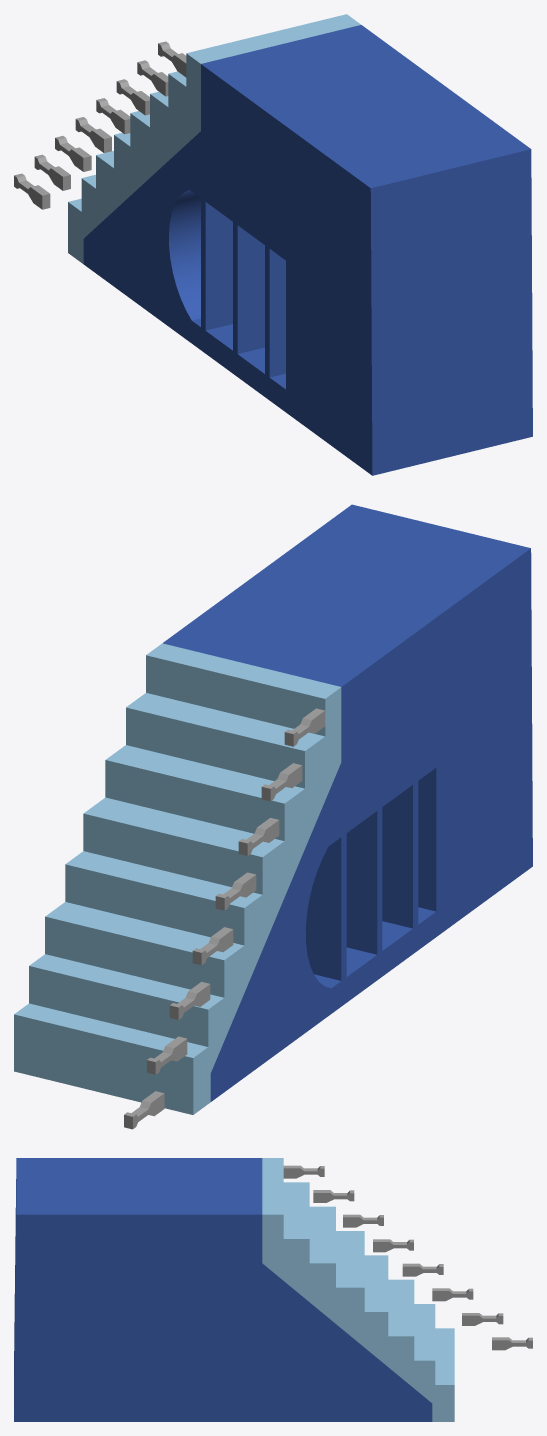
Rendered from Part Studio 18.dae.
3 renders of one model, top to bottom at view 1: azimuth 30°, elevation 25°; view 2: azimuth 150°, elevation 25°; view 3: azimuth 270°, elevation 25°, orthographic. The views are drawn at different scales.
Parts seen in each view (by area): view 1: 683cea19acba11596aeaaa51 (×9); view 2: 683cea19acba11596aeaaa51 (×10); view 3: 683cea19acba11596aeaaa51 (×10).
Boxes of the visible parts, bbox=[...] form: 683cea19acba11596aeaaa51 (×9): bbox=[14, 14, 532, 475]; 683cea19acba11596aeaaa51 (×10): bbox=[14, 504, 532, 1129]; 683cea19acba11596aeaaa51 (×10): bbox=[14, 1158, 532, 1421].
Size of the model in its own units: 0.0254 by 0.0982 by 0.0433.
